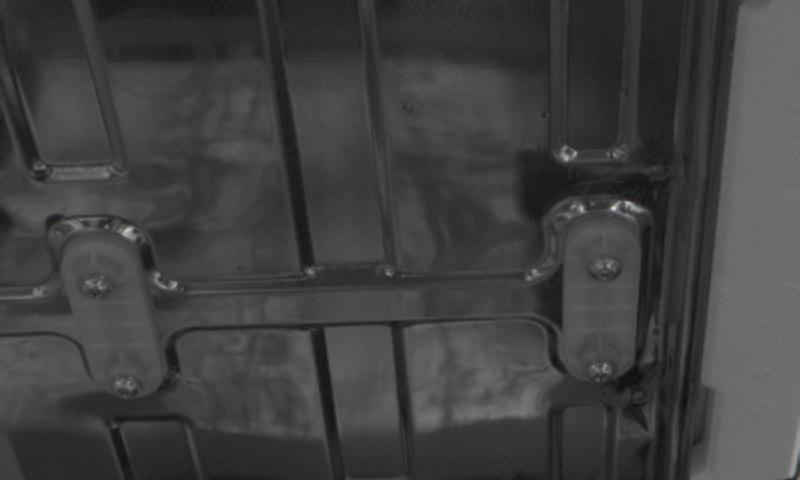vida-ok: (585, 247, 628, 292), (77, 267, 117, 312), (107, 366, 149, 406), (580, 349, 620, 388)
